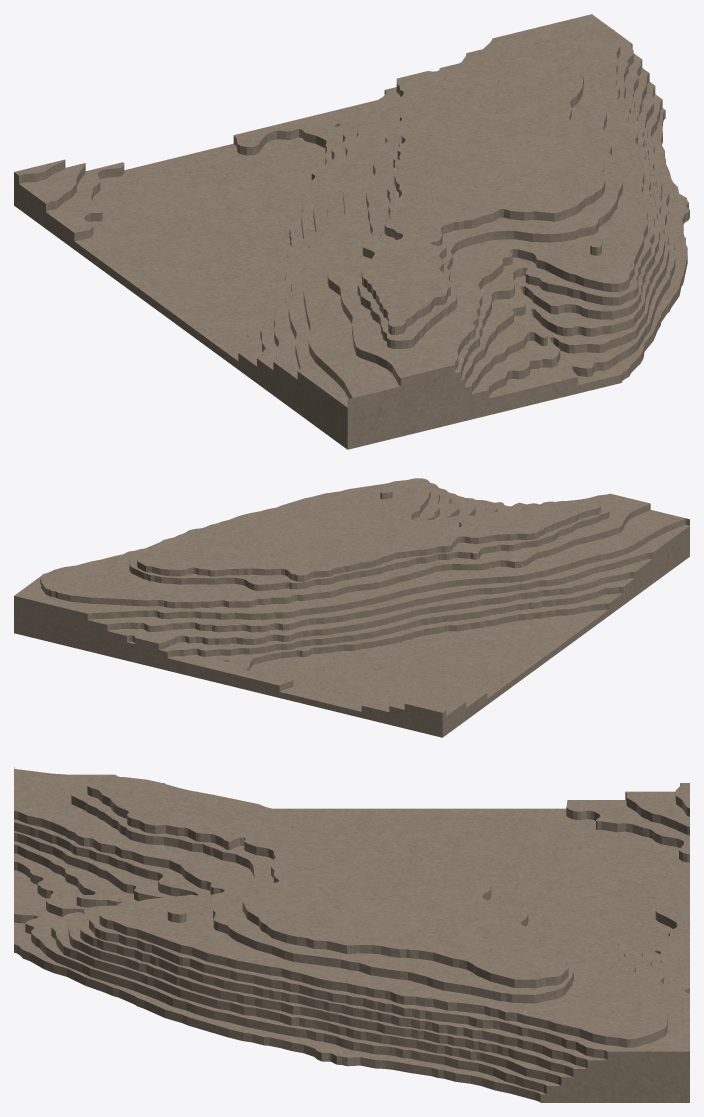
3 views of the same model, one above another, from view 1: azimuth 30°, elevation 25°; view 2: azimuth 150°, elevation 25°; view 3: azimuth 270°, elevation 25° (orthographic). The views are drawn at different scales.
Parts seen in each view (by area): view 1: coaster; view 2: coaster; view 3: coaster.
Boxes of the visible parts, bbox=[...] form: coaster: bbox=[14, 14, 689, 449]; coaster: bbox=[14, 478, 689, 737]; coaster: bbox=[14, 767, 689, 1102].
Bounding box in the file's own units: 102 × 12.7 × 102.
1 material, 1 textured.
